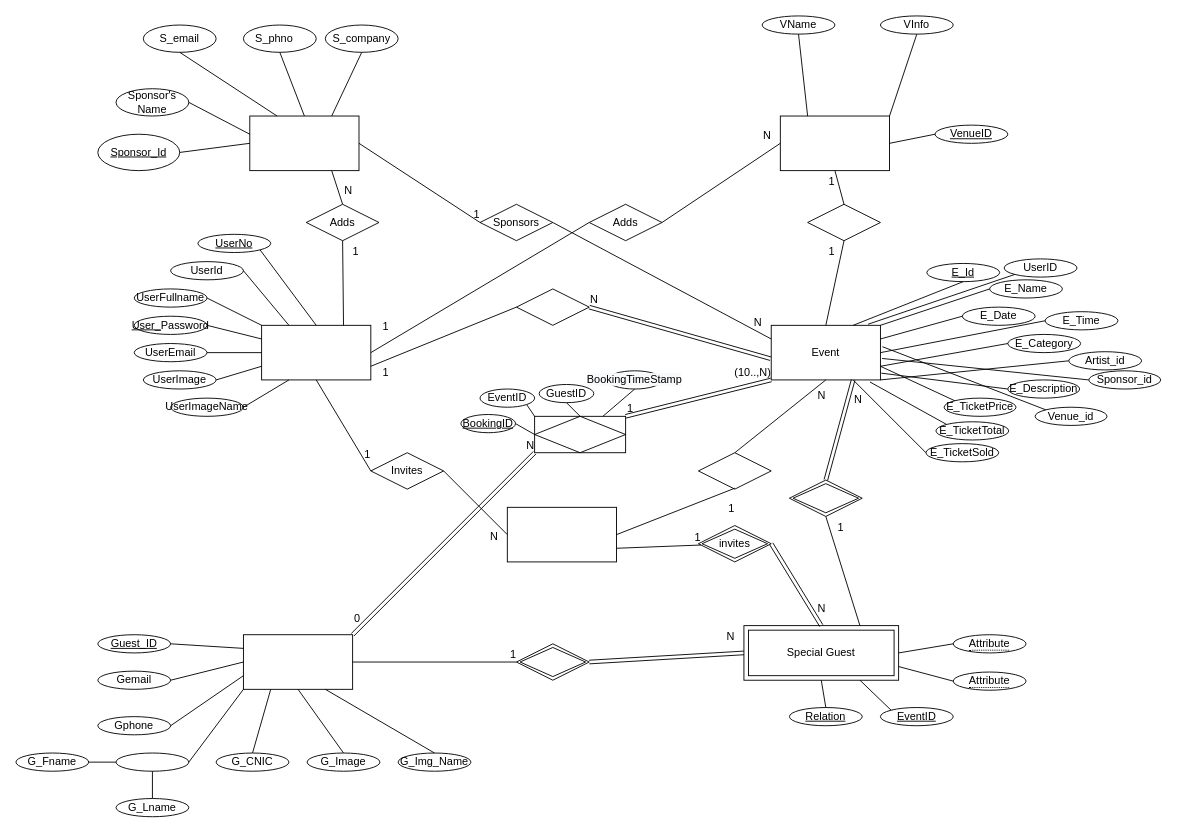
Image size: 1177x833. Some labels were removed from this diagram. The centre of each missing label's shape, as x and y in pixels:
"Artist" belongs at point 561,534.
"books" belongs at point 580,434.
"can_be" belongs at point 552,661.
"Client" belongs at point 316,352.
"Gname" belongs at point 152,761.
"Guest" belongs at point 298,661.
"has" belongs at point 825,497.
"Location" belongs at point 843,222.
"Manages" belongs at point 552,306.
"Performs" belongs at point 734,470.
"sponsor" belongs at point 304,143.
"Venue" belongs at point 834,143.
